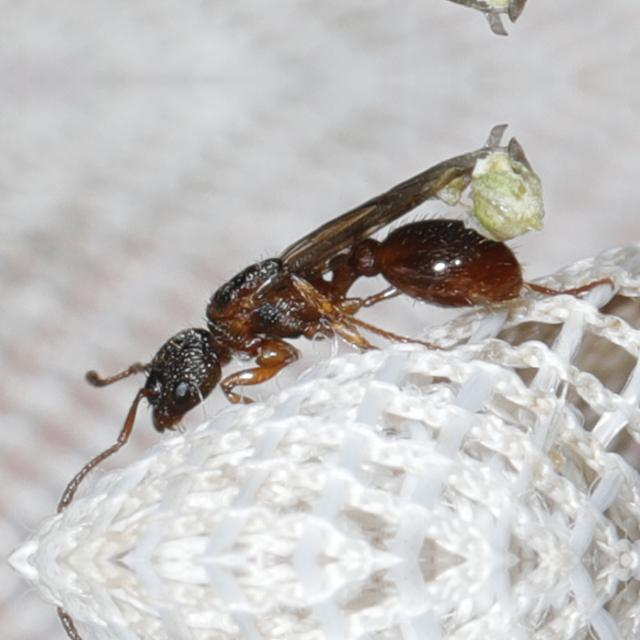Myrmica: (33, 140, 554, 460)
